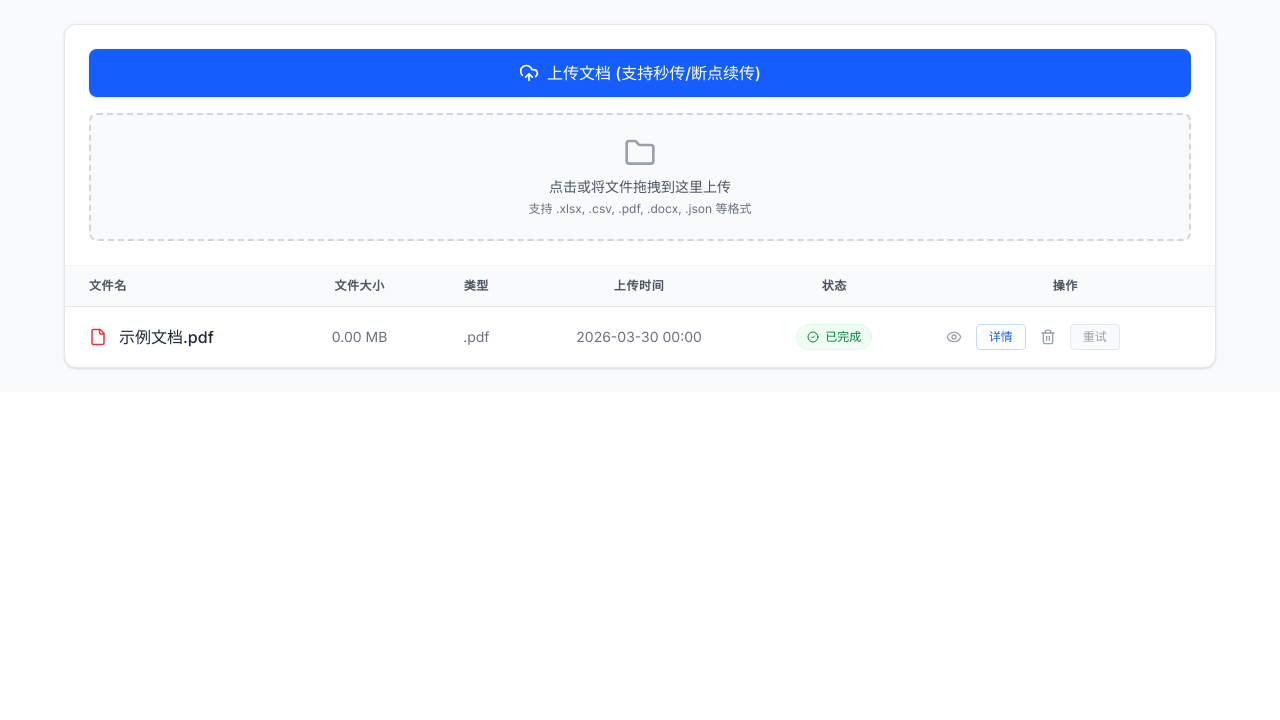
Test case: DocumentListPanel preview integration › falls back to legacy preview when global switch is off
This screenshot has width=1280, height=720.
Click the button named "预览".
click(954, 337)  # box left=940, top=323, right=968, bottom=351
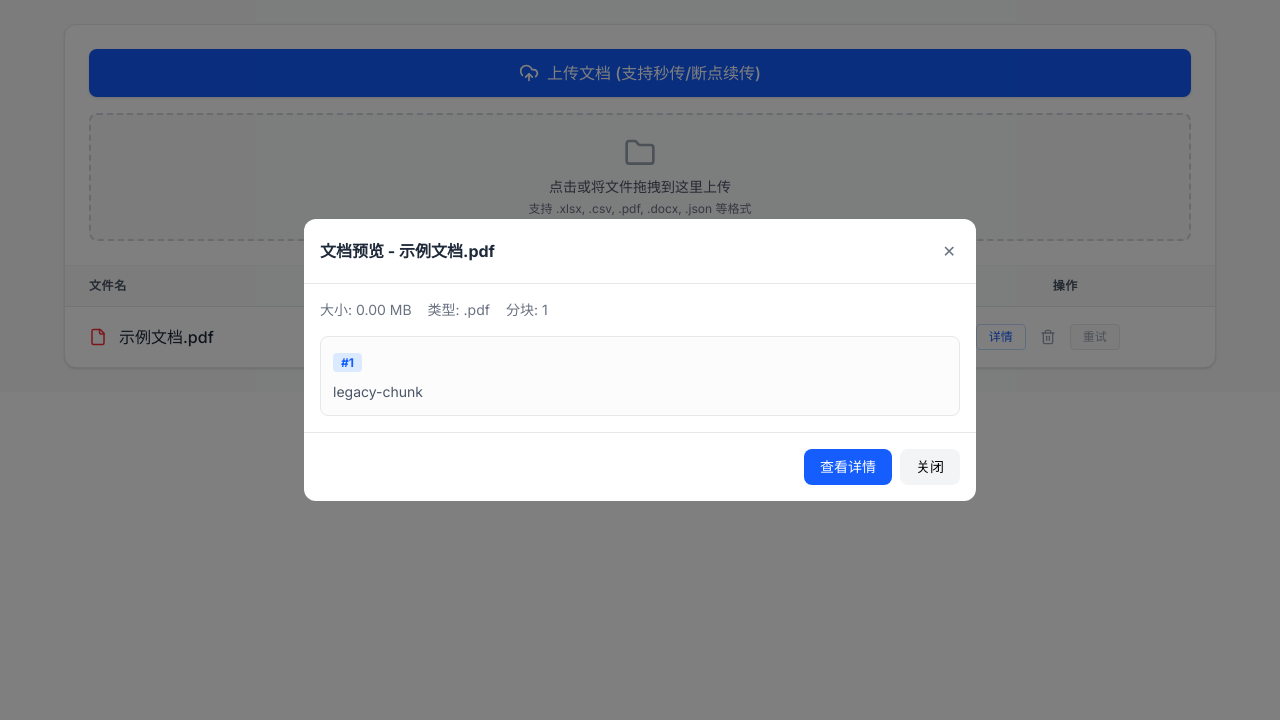
Check: the element with test id "legacy-preview-modal-surface" is shown, box left=304, top=219, right=976, bottom=501
Check: the text "legacy-chunk" is shown, box left=333, top=383, right=423, bottom=400
